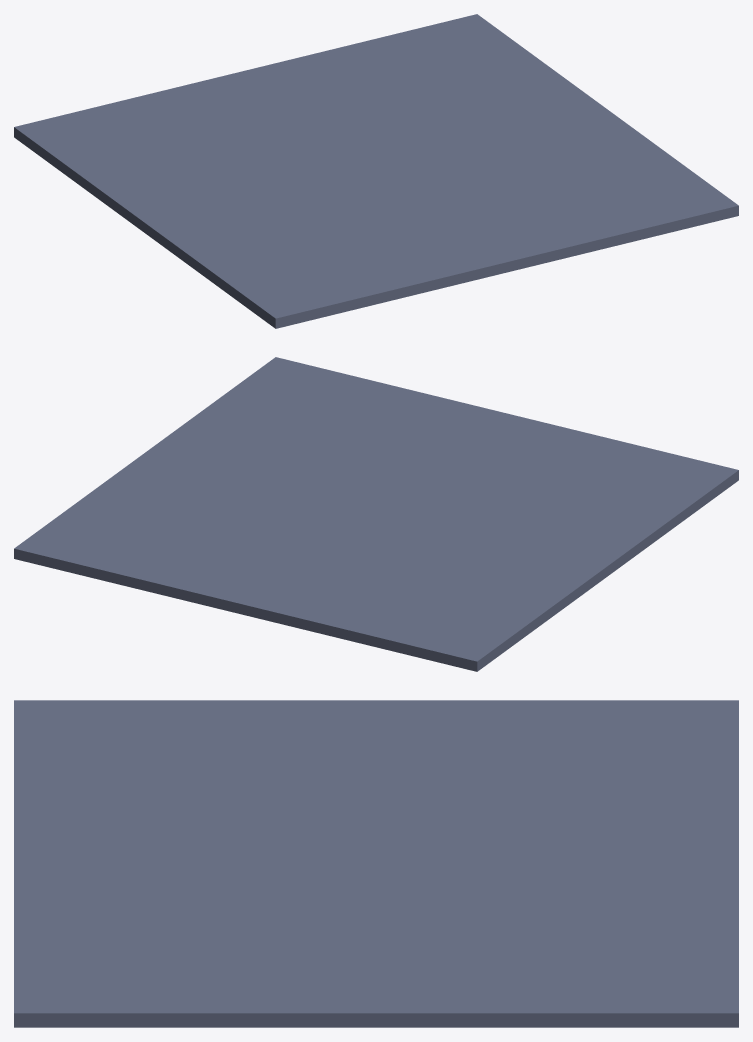
Rendered from TilePeace02.fbx.
3 renders of one model, top to bottom at view 1: azimuth 30°, elevation 25°; view 2: azimuth 150°, elevation 25°; view 3: azimuth 270°, elevation 25°, orthographic. The views are drawn at different scales.
Parts seen in each view (by area): view 1: TilePeace02, TilePeace03, TilePeace04; view 2: TilePeace02, TilePeace03, TilePeace04; view 3: TilePeace02, TilePeace03, TilePeace04.
Boxes of the visible parts, x1,y1,x2,y2 form: TilePeace02: (14,88,738,313); TilePeace03: (172,14,657,151); TilePeace04: (226,279,339,328); TilePeace02: (195,357,689,671); TilePeace03: (14,416,349,633); TilePeace04: (658,454,738,515); TilePeace02: (14,700,738,1027); TilePeace03: (238,807,738,1027); TilePeace04: (14,700,149,743).
Bounding box in the file's own units: 0.47 × 0.01 × 0.46.
